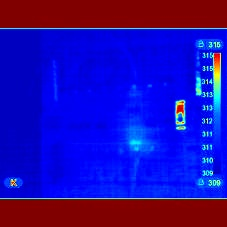High: (171, 100, 189, 131)
